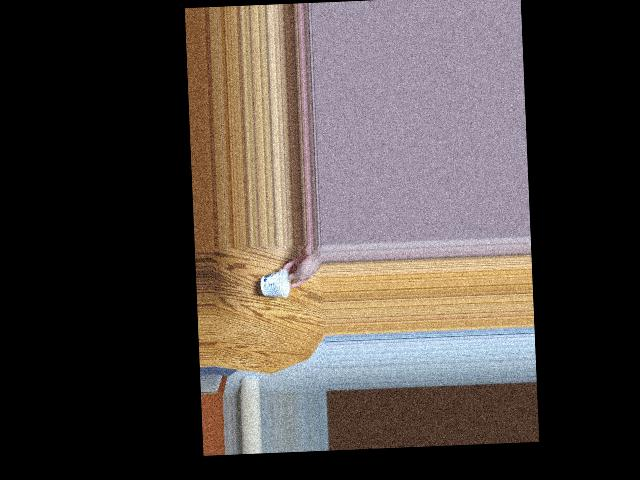cotage: (261, 266, 292, 298)
